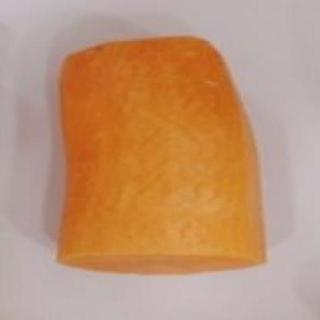carrot: (31, 31, 290, 291)
